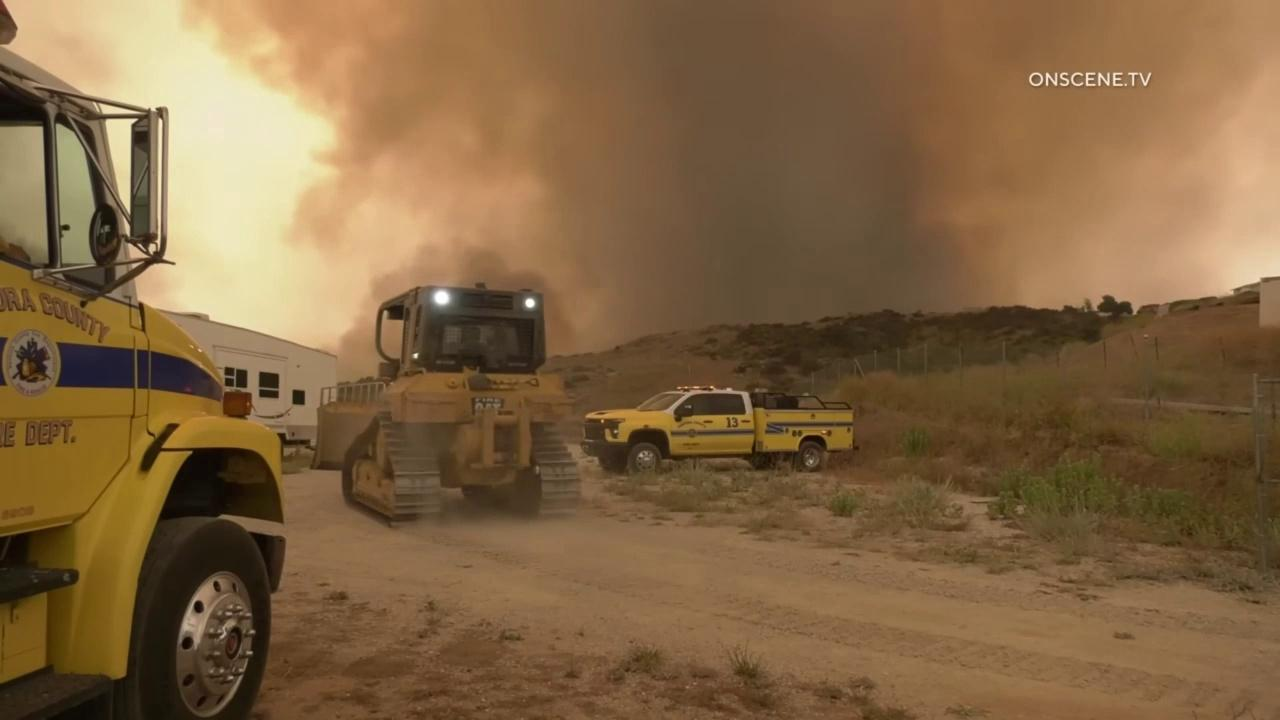smoke: (177, 0, 1280, 332)
